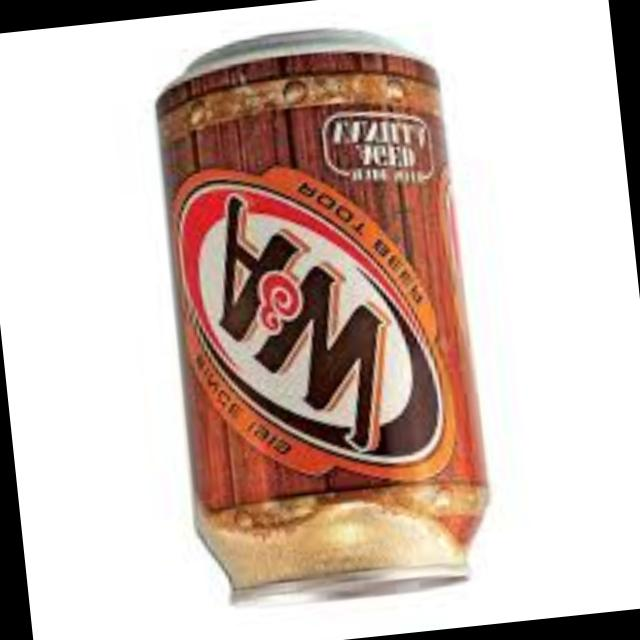metal: (157, 56, 483, 601)
